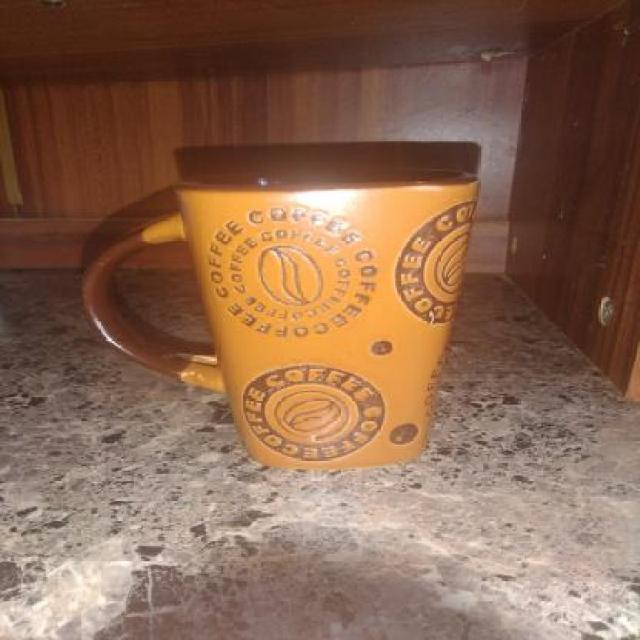cup: (76, 173, 504, 473)
